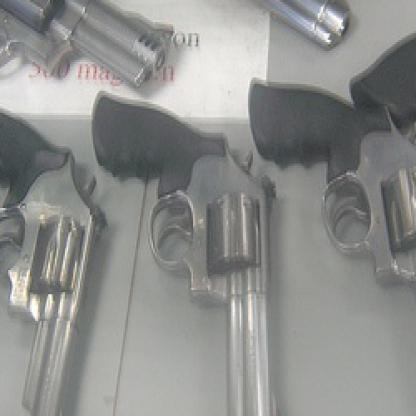gun: (90, 88, 281, 414), (245, 77, 414, 414), (0, 99, 112, 414), (0, 0, 178, 93), (347, 0, 415, 129)
